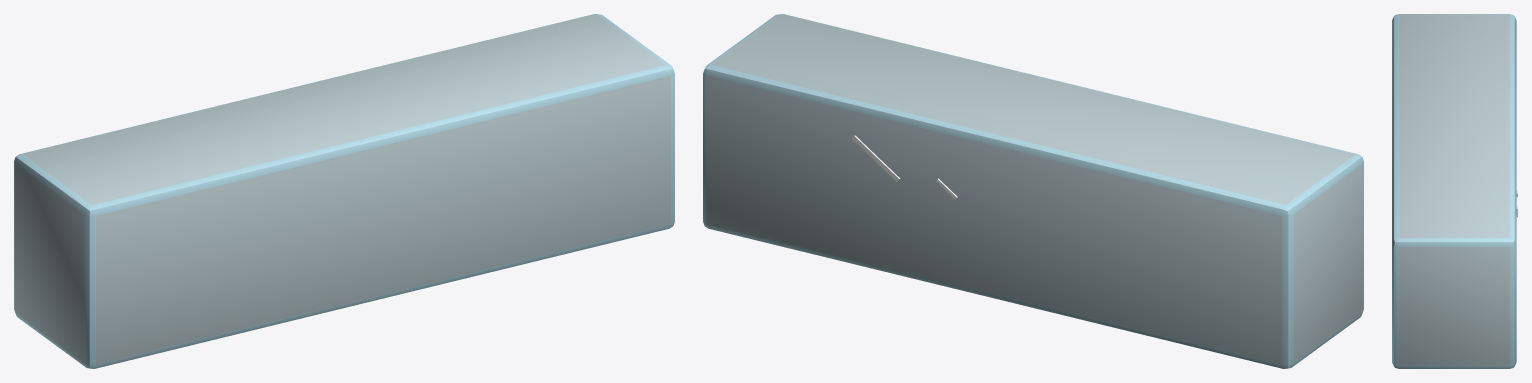
File: RectangleLargeIce.fbx
The picture shows the model from 3 angles, left to right: view 1: azimuth 30°, elevation 25°; view 2: azimuth 150°, elevation 25°; view 3: azimuth 270°, elevation 25°; orthographic projection. The views are drawn at different scales.
Visible parts, largest first — view 1: RectangleLargeIce; view 2: RectangleLargeIce; view 3: RectangleLargeIce.
Part boxes in pixels (x1,y1,x2,y2): RectangleLargeIce: [14, 14, 674, 368]; RectangleLargeIce: [703, 14, 1363, 368]; RectangleLargeIce: [1392, 14, 1517, 368].
Bounding box in the file's own units: 9.6 × 2.55 × 2.23.
